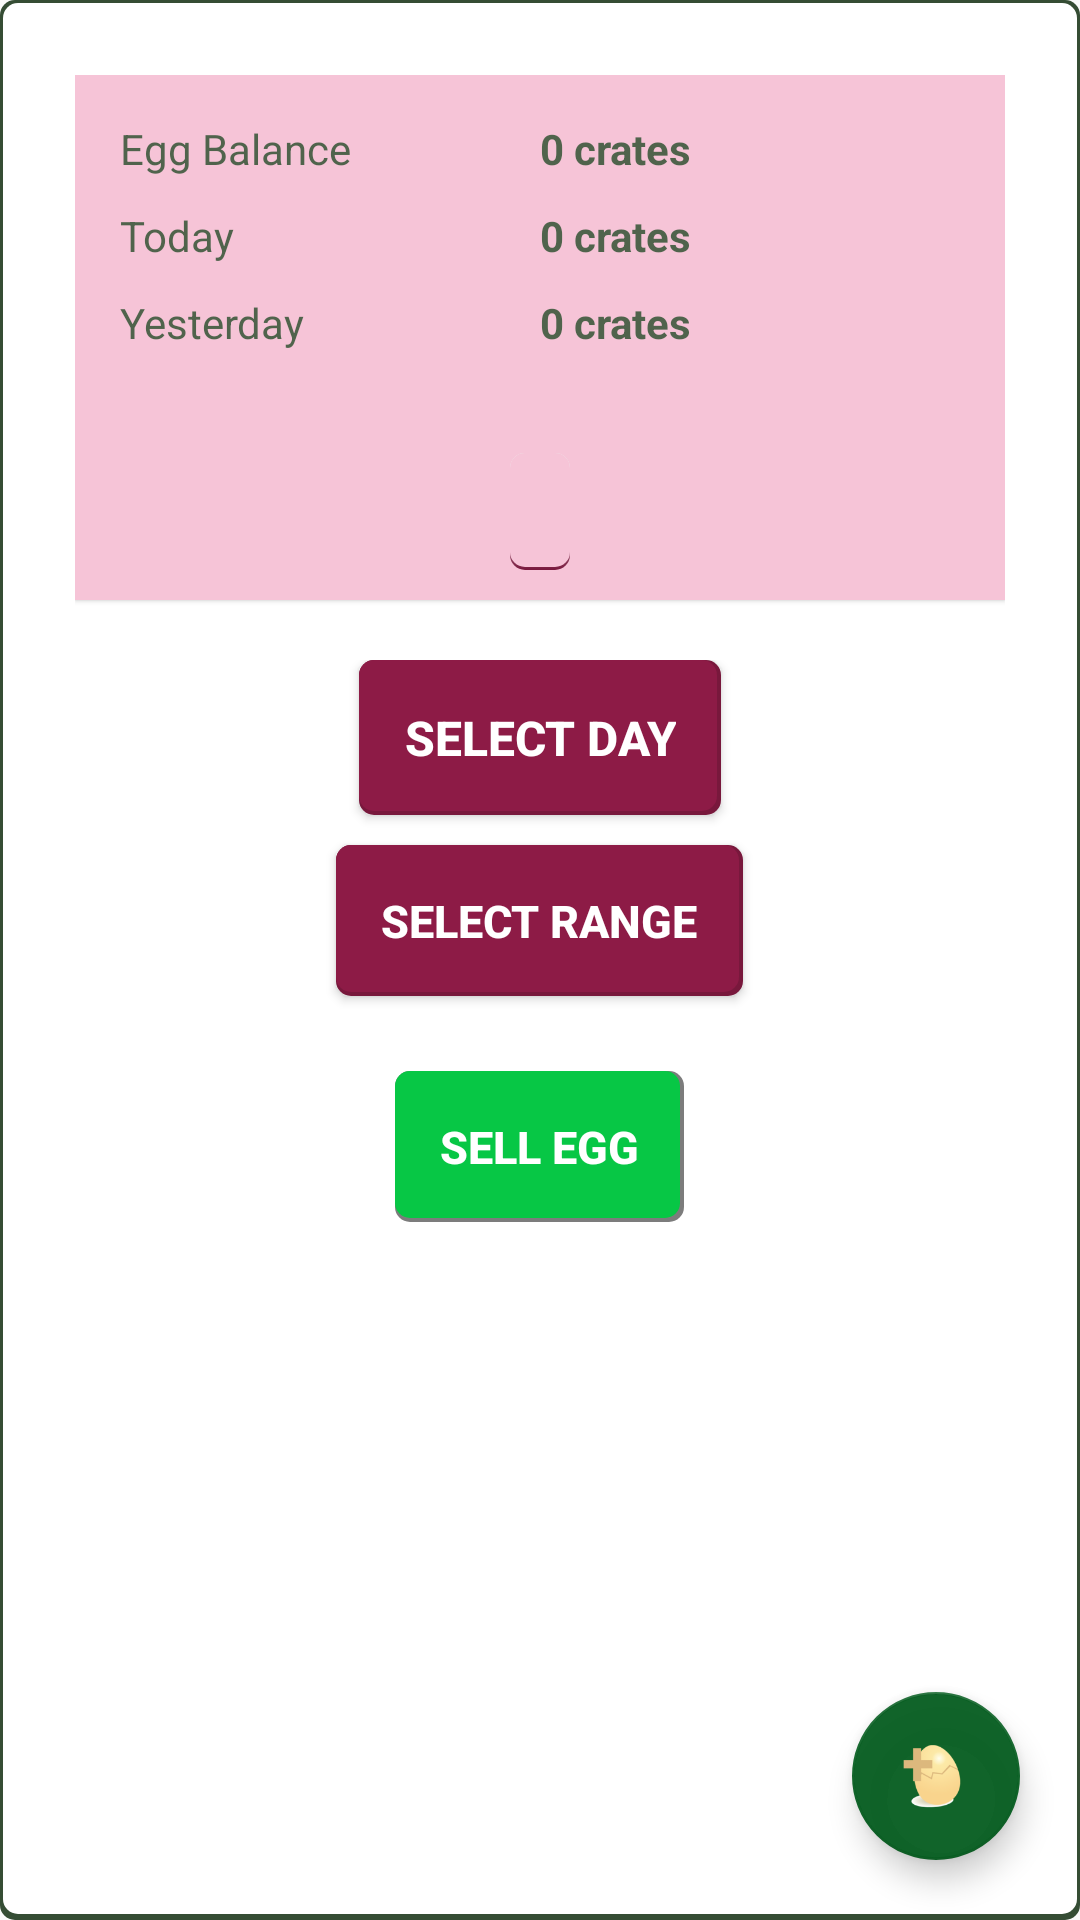

Locate icon controls on the screen. Image size 1080px×1920px, boxes as rect(x1, y1, x2, y2).
add egg: rect(852, 1692, 1020, 1860)
